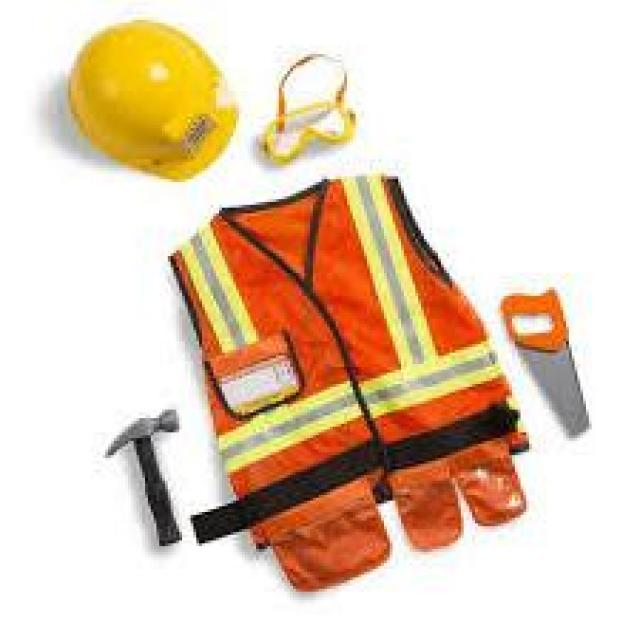Reflective-Jacket: (154, 162, 529, 552)
Safety-Helmet: (57, 9, 247, 188)
